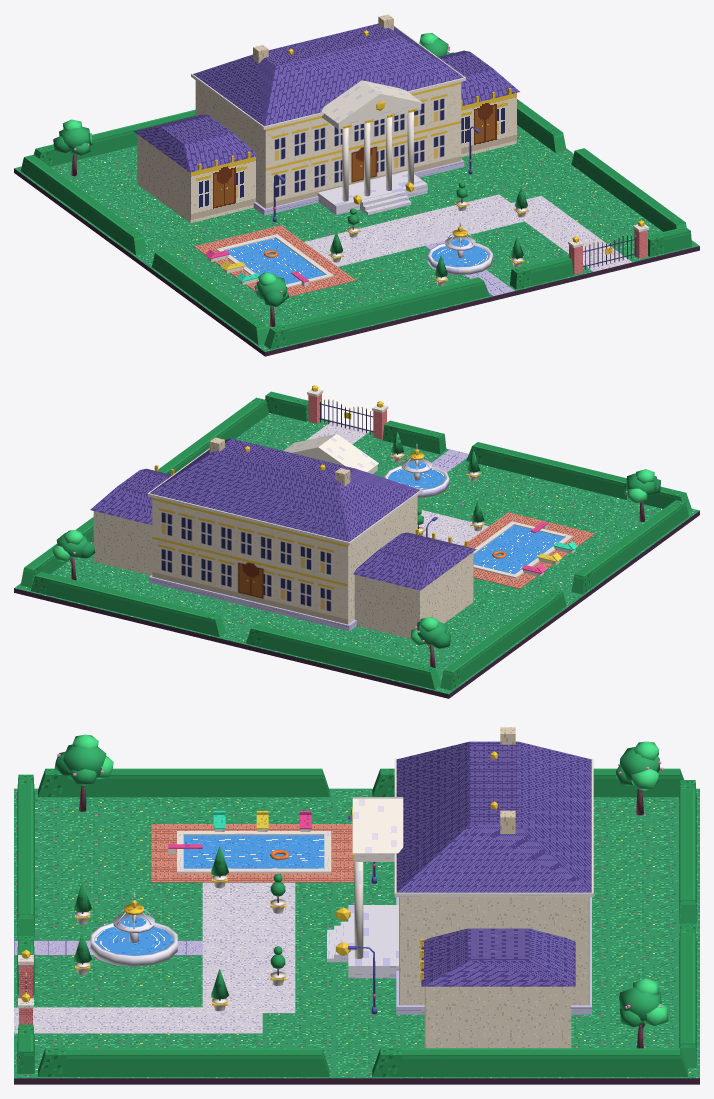
The model's file is Mansion Block B.fbx.
3 views of the same model, one above another, from view 1: azimuth 30°, elevation 25°; view 2: azimuth 150°, elevation 25°; view 3: azimuth 270°, elevation 25° (orthographic). The views are drawn at different scales.
Parts seen in each view (by area): view 1: Mansion Block B mansion mesh, Mansion Block B props mesh, Mansion Block B ground; view 2: Mansion Block B mansion mesh, Mansion Block B props mesh, Mansion Block B ground; view 3: Mansion Block B props mesh, Mansion Block B ground, Mansion Block B mansion mesh.
Part boxes in pixels (x1,y1,x2,y2): Mansion Block B mansion mesh: [134, 14, 519, 223]; Mansion Block B props mesh: [20, 33, 692, 349]; Mansion Block B ground: [14, 125, 699, 356]; Mansion Block B mansion mesh: [90, 433, 476, 638]; Mansion Block B props mesh: [20, 385, 691, 690]; Mansion Block B ground: [14, 413, 699, 698]; Mansion Block B props mesh: [14, 734, 696, 1076]; Mansion Block B ground: [14, 788, 699, 1084]; Mansion Block B mansion mesh: [327, 727, 593, 1048].
Bounding box in the file's own units: 40 × 11.7 × 40.
38 materials, 38 textured.
